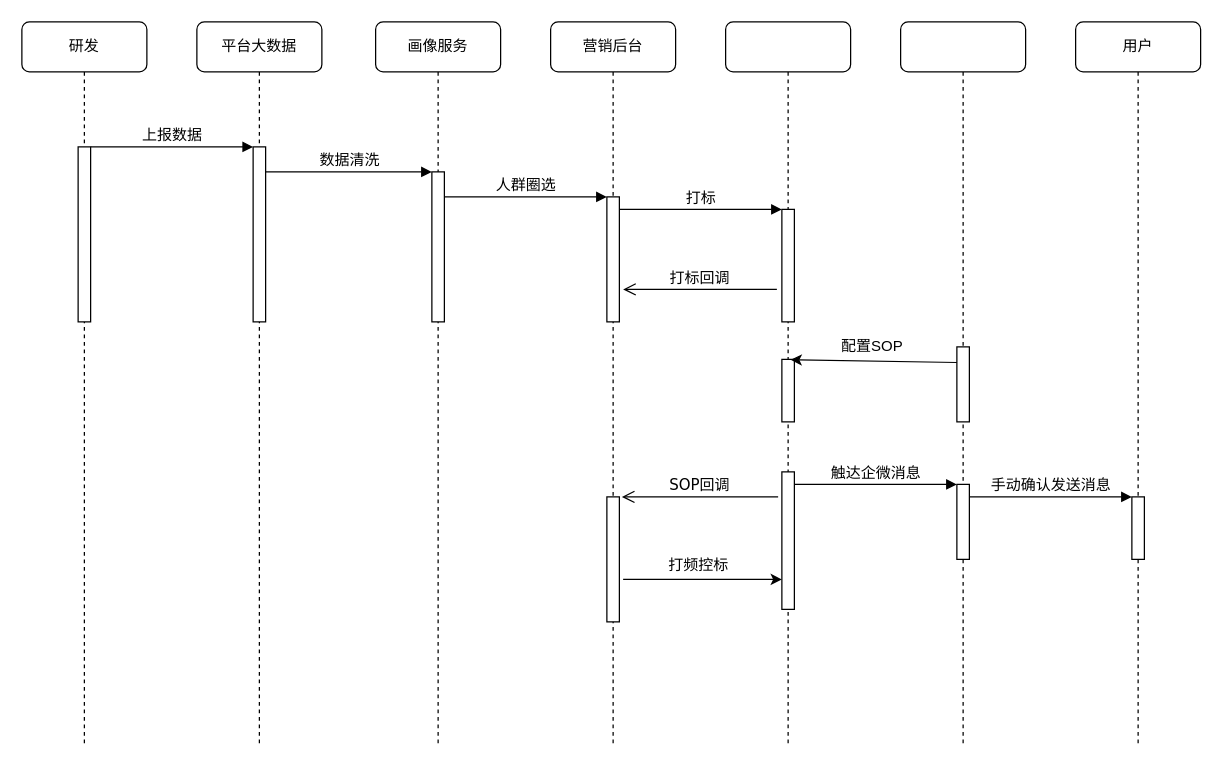
Image size: 1223x769. Some labels were removed from this diagram. Each missing label, with the centre of its shape:
互客SCRM后台: point (787, 384)
营销人员: point (962, 384)
